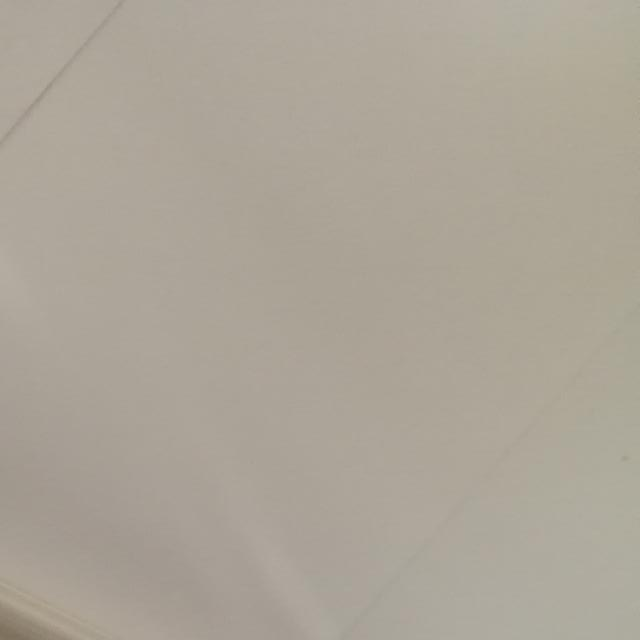fluorescent tube: (0, 330, 597, 640)
